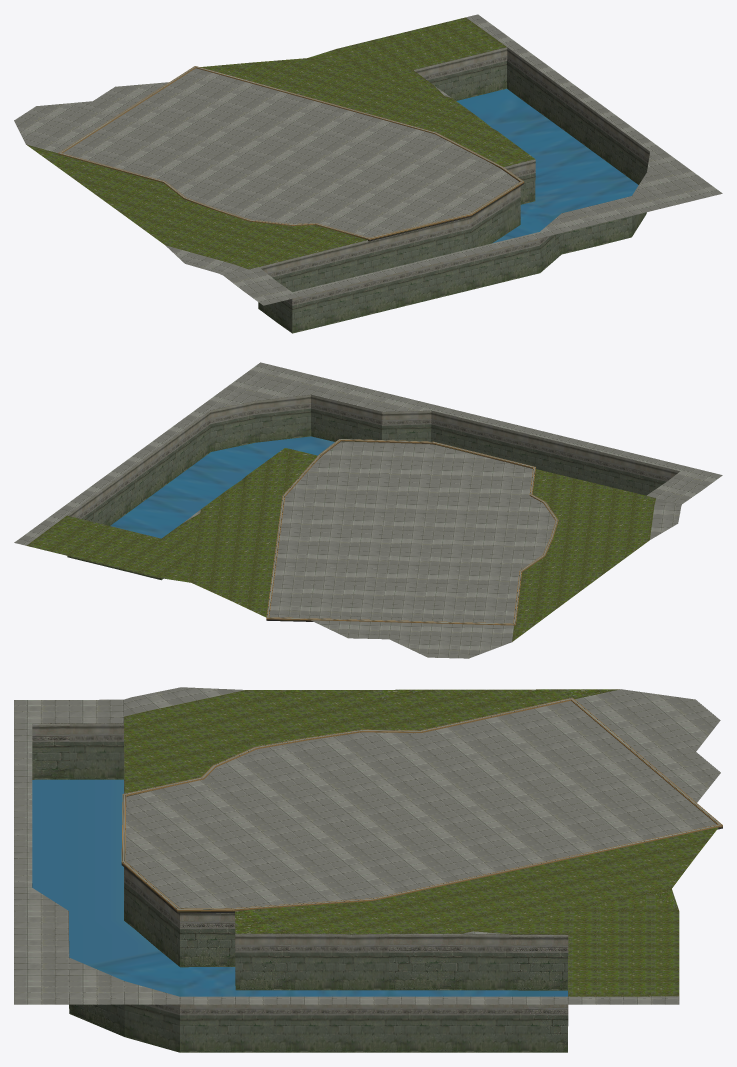
The model's file is Yland1_dm_03 Yland1.FBX.
The picture shows the model from 3 angles, top to bottom: view 1: azimuth 30°, elevation 25°; view 2: azimuth 150°, elevation 25°; view 3: azimuth 270°, elevation 25°; orthographic projection. The views are drawn at different scales.
Visible parts, largest first — view 1: Yland1_dm_03 Yland1; view 2: Yland1_dm_03 Yland1; view 3: Yland1_dm_03 Yland1.
Boxes of the visible parts, left/top/right/bottom form: Yland1_dm_03 Yland1: left=14, top=14, right=722, bottom=333; Yland1_dm_03 Yland1: left=14, top=362, right=722, bottom=658; Yland1_dm_03 Yland1: left=14, top=687, right=722, bottom=1052.
Bounding box in the file's own units: 85.39 × 7.41 × 81.01.
